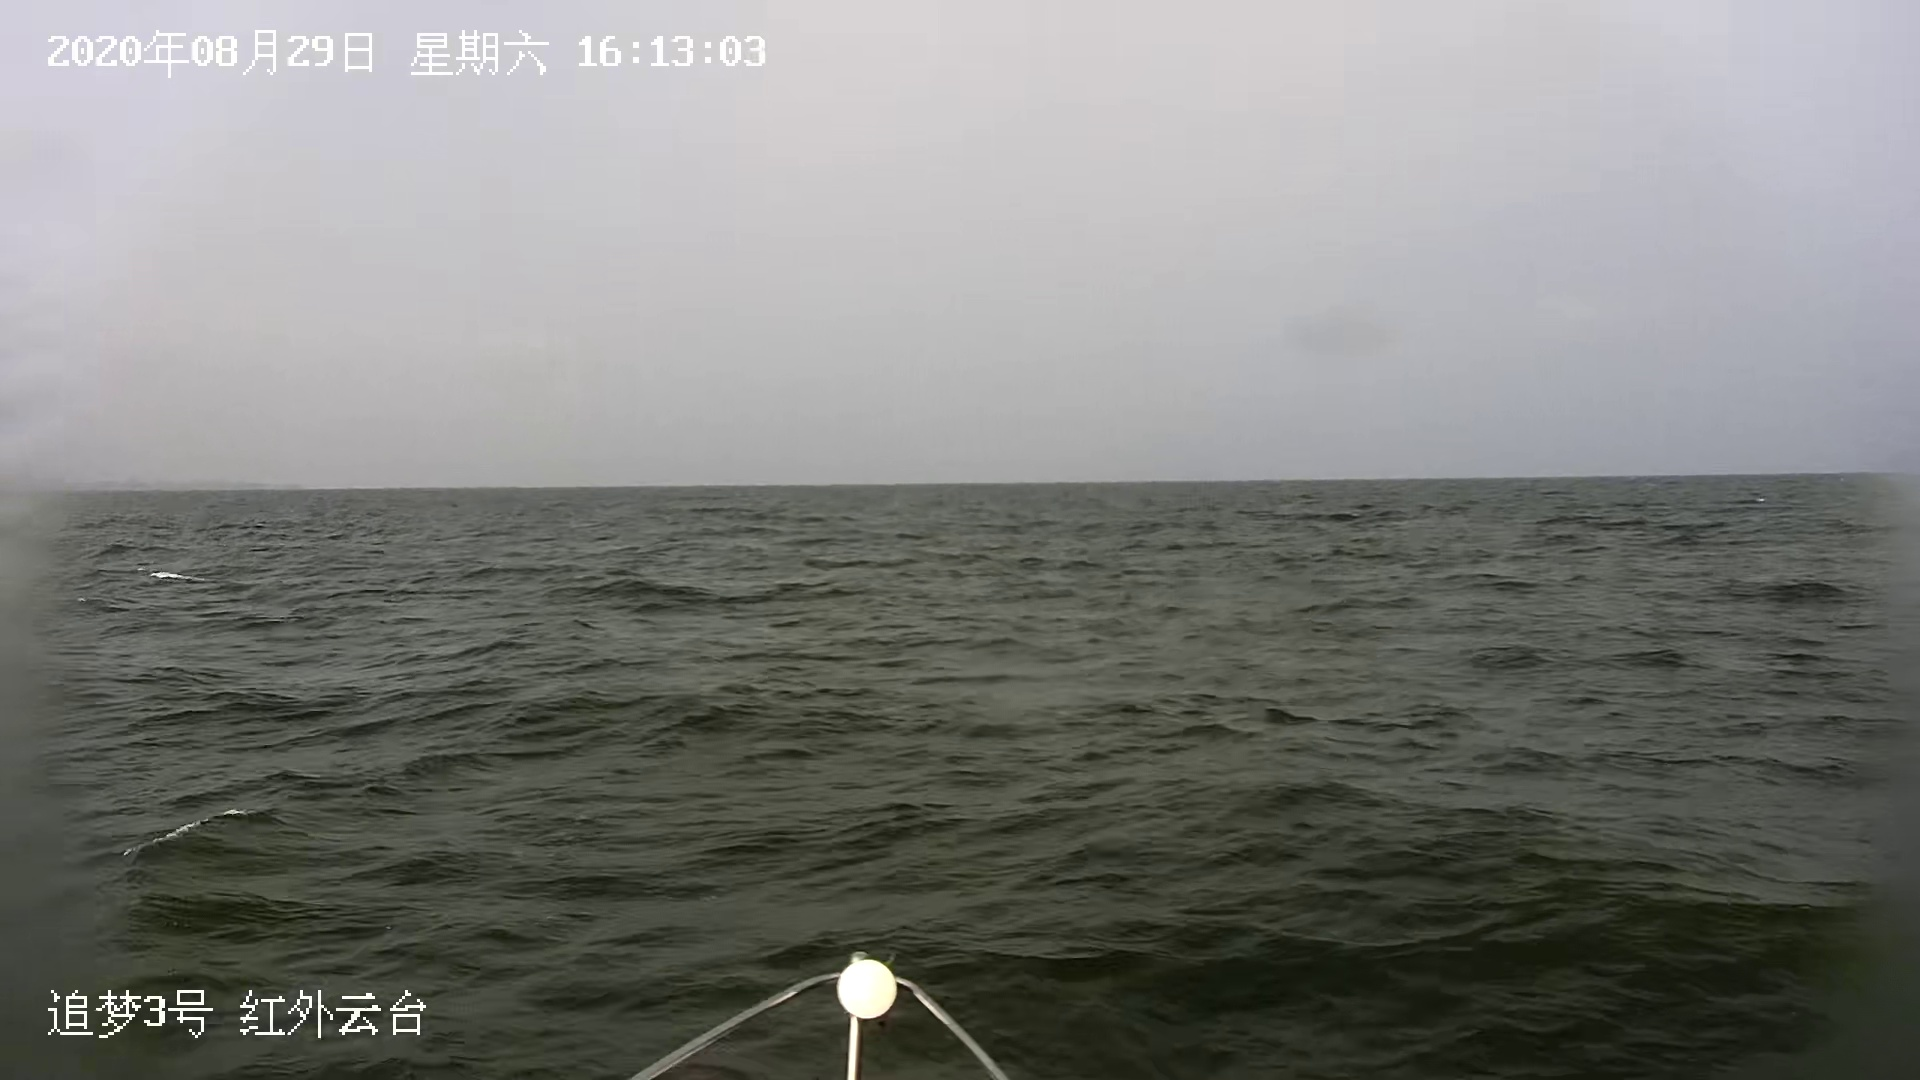coast: (22, 480, 305, 495)
